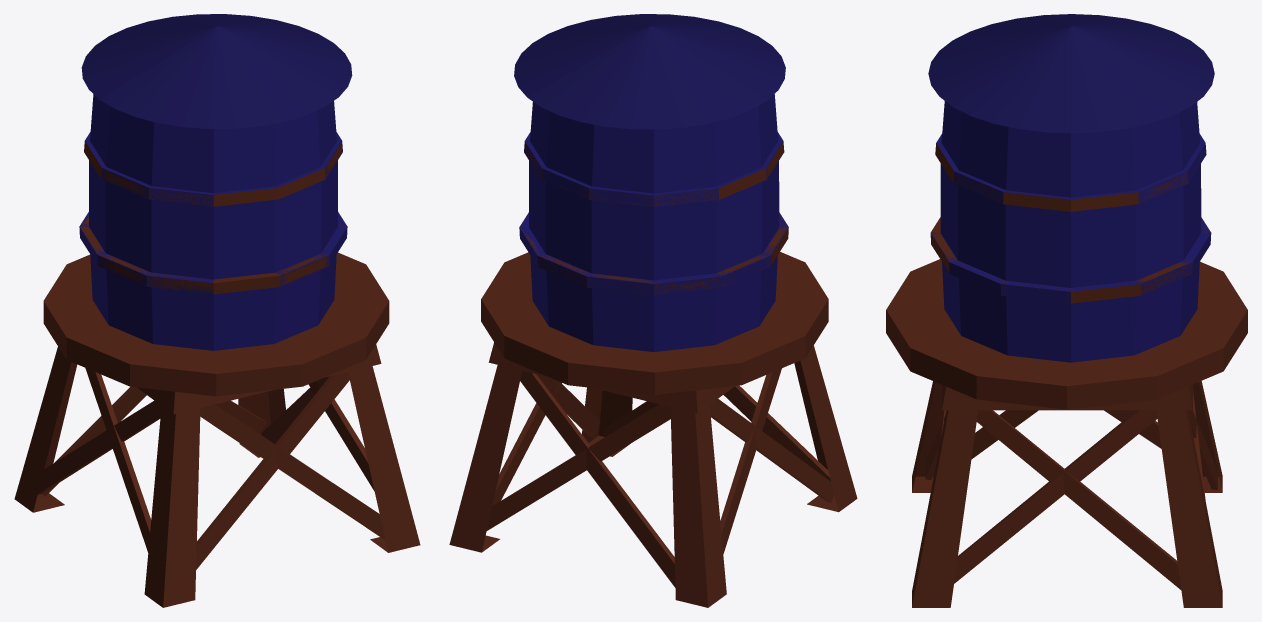
The model's file is caixadagua.fbx.
3 views of the same model, side by side, from view 1: azimuth 30°, elevation 25°; view 2: azimuth 150°, elevation 25°; view 3: azimuth 270°, elevation 25° (orthographic). The views are drawn at different scales.
Parts seen in each view (by area): view 1: Cone; view 2: Cone; view 3: Cone.
Part boxes in pixels (x1=…): Cone: x1=14, y1=14, x2=420, y2=607; Cone: x1=449, y1=14, x2=857, y2=607; Cone: x1=886, y1=14, x2=1247, y2=607.
Bounding box in the file's own units: 1245 × 1963 × 1245.
